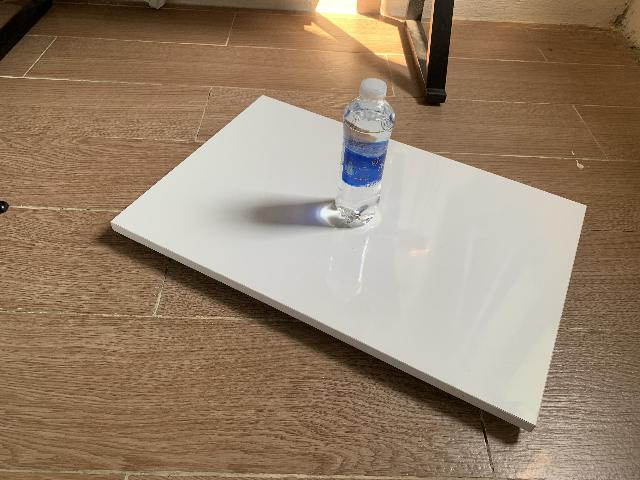aquafina: (334, 78, 395, 225)
